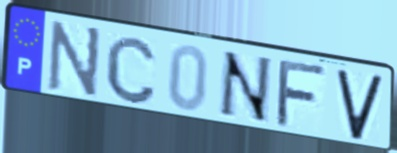0: (165, 42, 212, 115)
C: (103, 33, 159, 107)
F: (272, 58, 330, 130)
N: (45, 19, 104, 103), (214, 49, 274, 127)
V: (335, 68, 386, 142)
